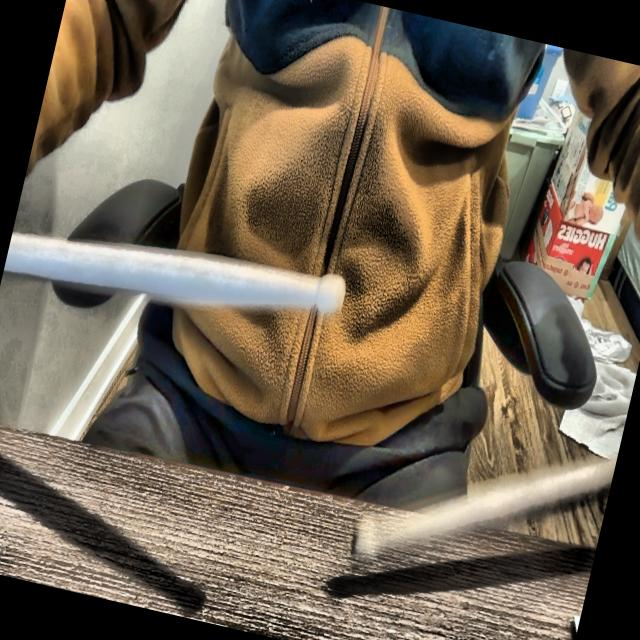Drumstick-Heads: (343, 494, 388, 576), (308, 264, 354, 327)
